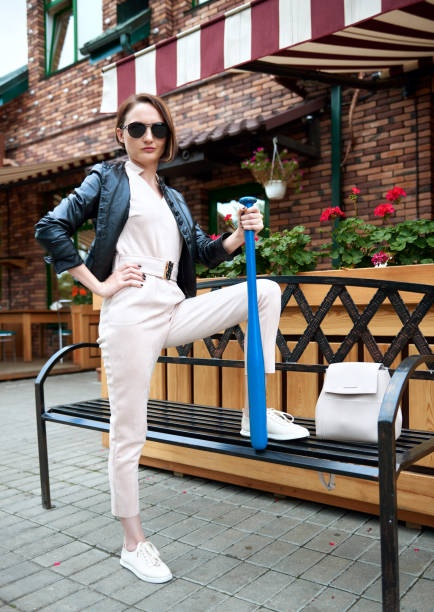bita: (231, 196, 276, 449)
